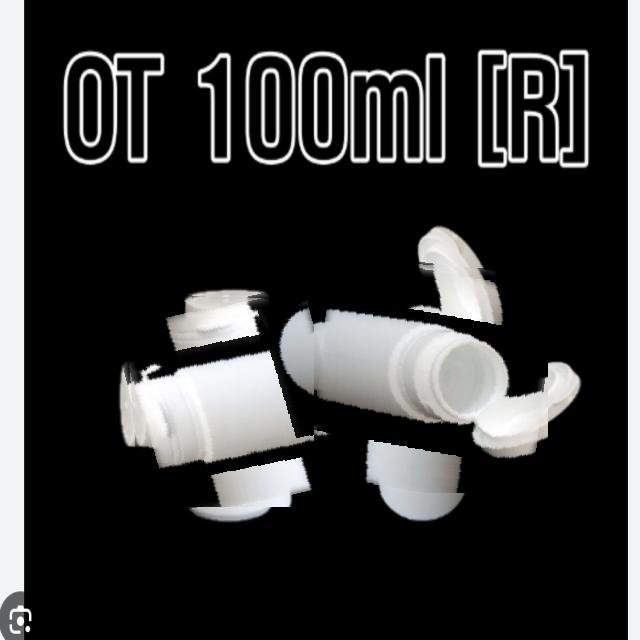recyclable: (313, 258, 548, 493), (124, 293, 337, 507)
